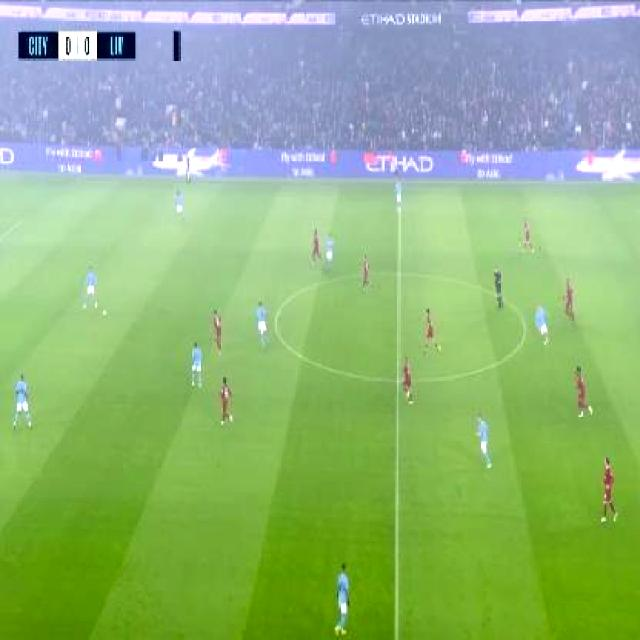bigarea_top_inner: (13, 214, 24, 228)
halfcircle_bottom: (388, 366, 404, 391)
halfcircle_top: (390, 265, 404, 283)
